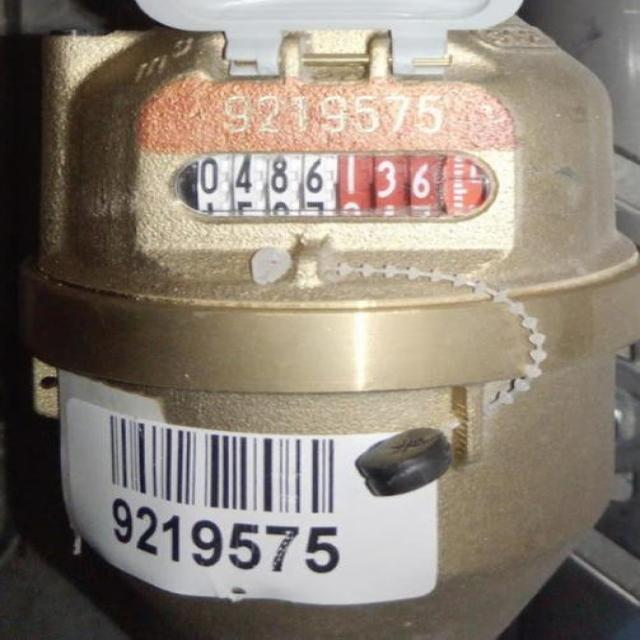gaz_meter: (55, 49, 622, 296)
indication: (192, 152, 480, 211)
